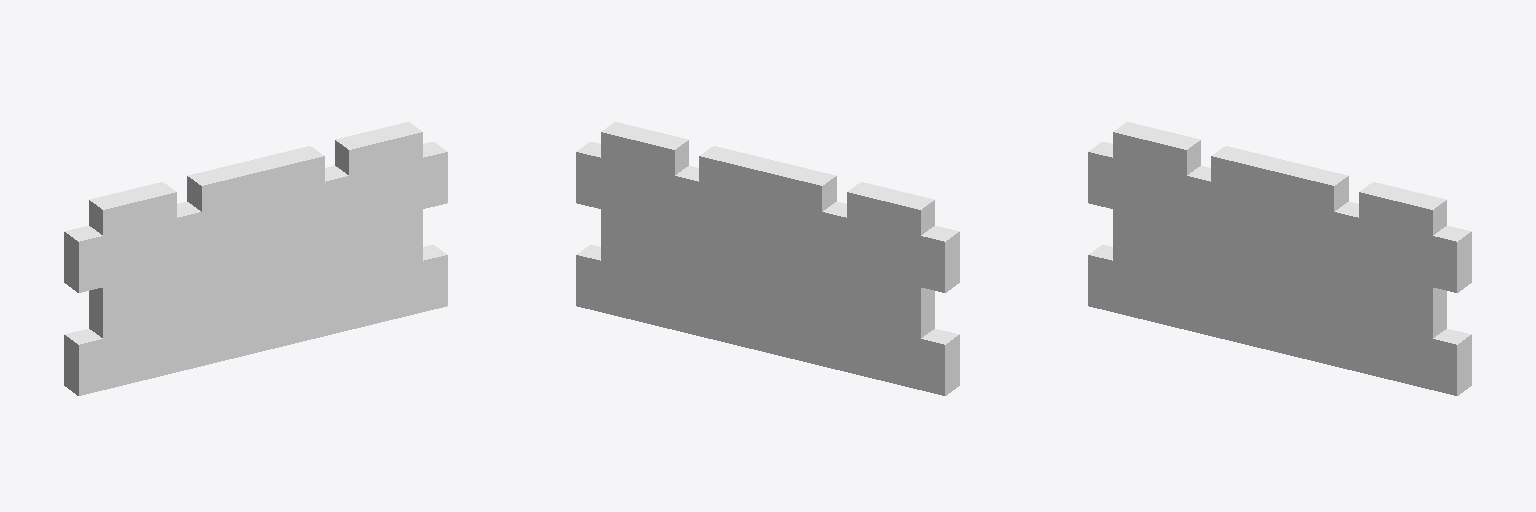
File: snowman death.obj
3 renders of one model, left to right at view 1: azimuth 30°, elevation 25°; view 2: azimuth 150°, elevation 25°; view 3: azimuth 330°, elevation 25°, orthographic.
Visible parts, largest first — view 1: object 1; view 2: object 1; view 3: object 1.
Boxes of the visible parts, <box> form: object 1: <box>64,122,447,395</box>; object 1: <box>576,122,959,395</box>; object 1: <box>1088,122,1471,395</box>.
Size of the model in its own units: 1.5 by 0.7 by 0.1.